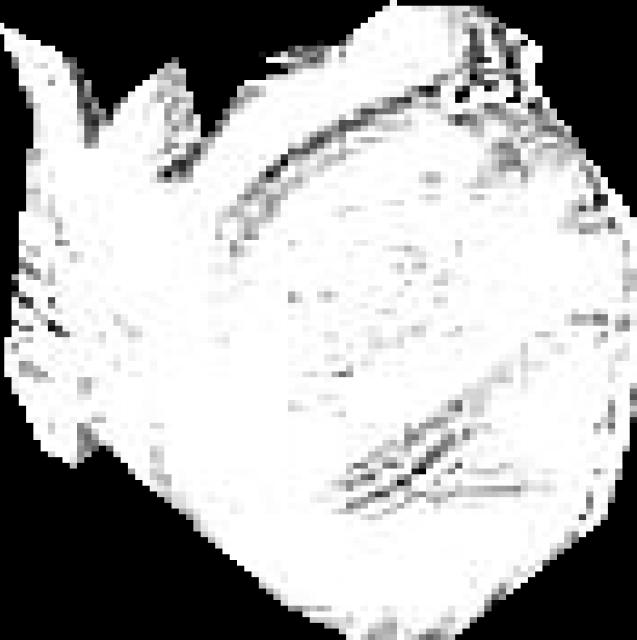tumor_moderate_chance: (1, 0, 637, 640)
